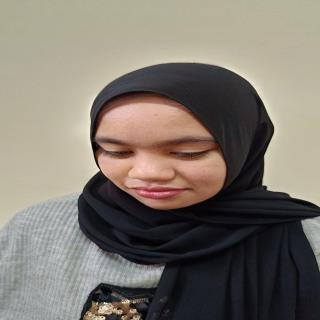Sedih: (83, 95, 253, 215)
